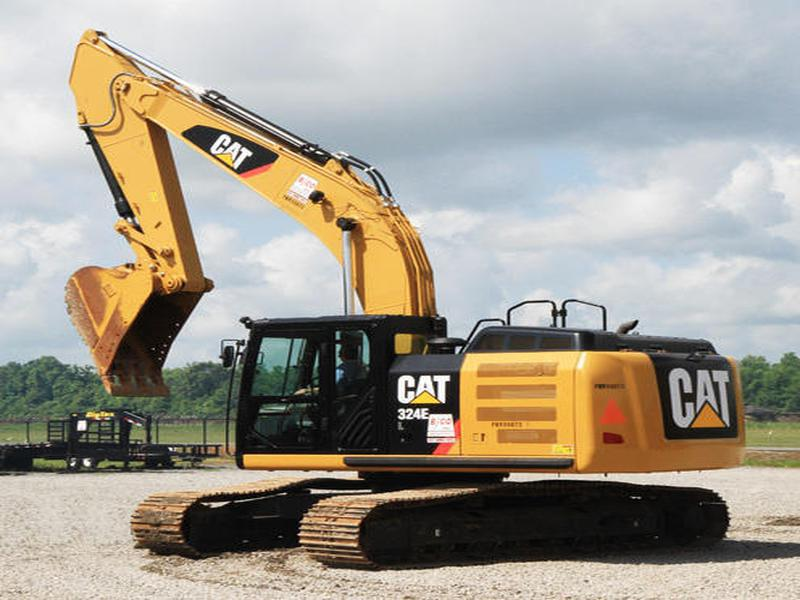shovel: (54, 22, 750, 578)
